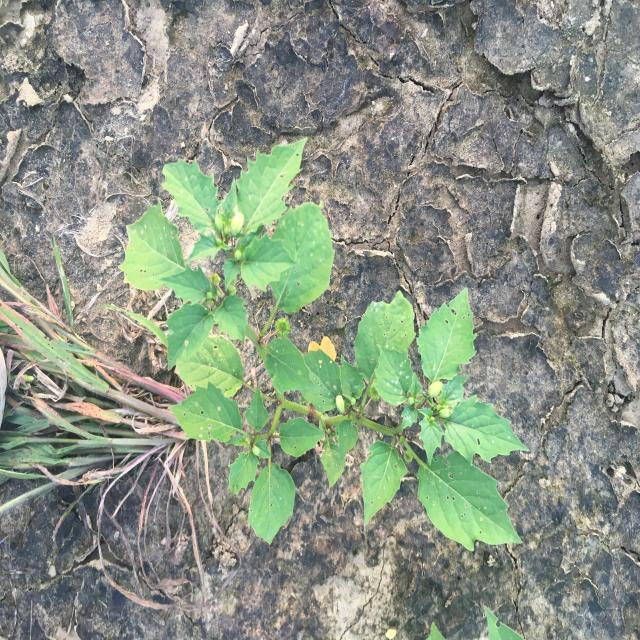CutleafGroundcherry: (116, 134, 531, 554)
